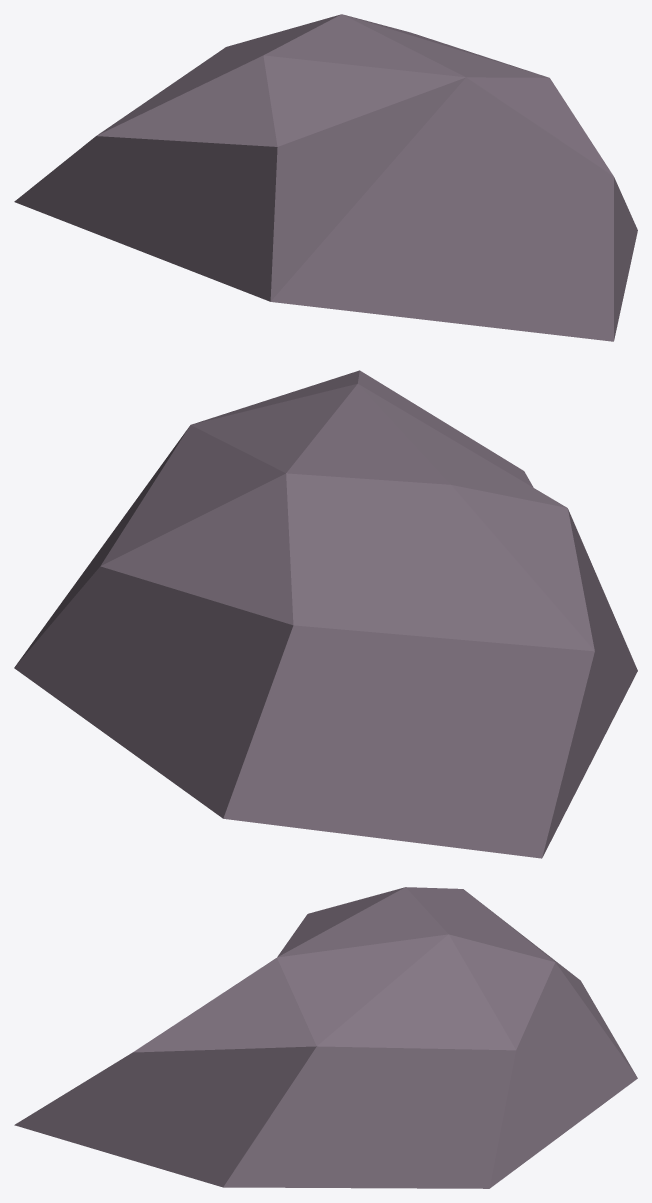
The model's file is Small_stone_v03.fbx.
The picture shows the model from 3 angles, top to bottom: view 1: azimuth 30°, elevation 25°; view 2: azimuth 150°, elevation 25°; view 3: azimuth 270°, elevation 25°; orthographic projection. The views are drawn at different scales.
Visible parts, largest first — view 1: Small_stone_v03; view 2: Small_stone_v03; view 3: Small_stone_v03.
Boxes of the visible parts, box(x1,y1,x2,y2) form: Small_stone_v03: box(14, 14, 637, 341); Small_stone_v03: box(14, 370, 637, 858); Small_stone_v03: box(14, 887, 637, 1188).
Bounding box in the file's own units: 15.11 × 5.78 × 19.13.
1 material, 1 textured.
